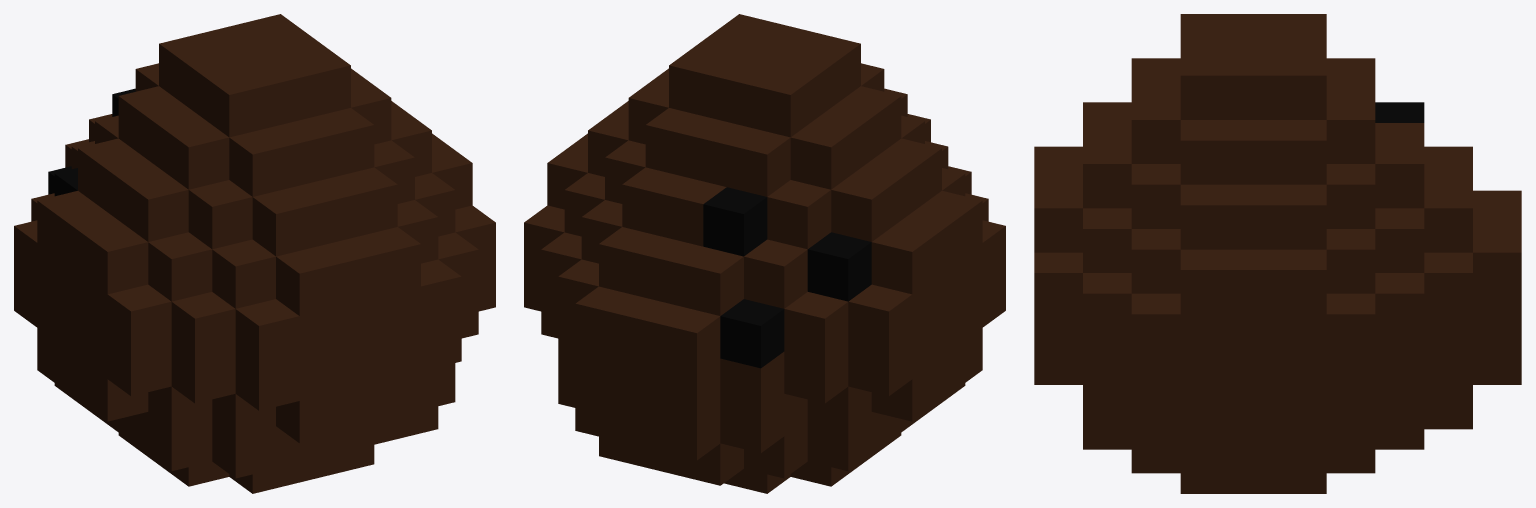
The model's file is coconut.fbx.
3 views of the same model, side by side, from view 1: azimuth 30°, elevation 25°; view 2: azimuth 150°, elevation 25°; view 3: azimuth 270°, elevation 25° (orthographic). The views are drawn at different scales.
Visible parts, largest first — view 1: Untitled; view 2: Untitled; view 3: Untitled.
Part boxes in pixels (x1,y1,x2,y2): Untitled: [14, 14, 495, 493]; Untitled: [524, 14, 1005, 493]; Untitled: [1034, 14, 1521, 493].
Bounding box in the file's own units: 90 × 90 × 100.
